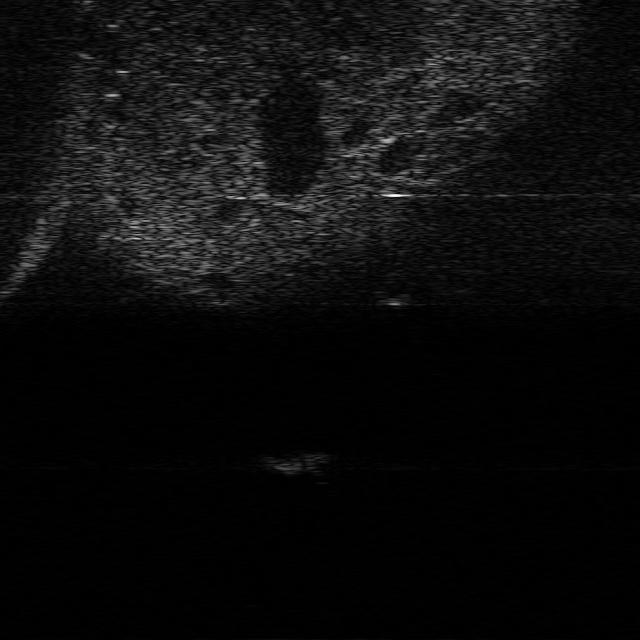ball: (372, 280, 413, 306)
cube: (255, 450, 335, 477)
